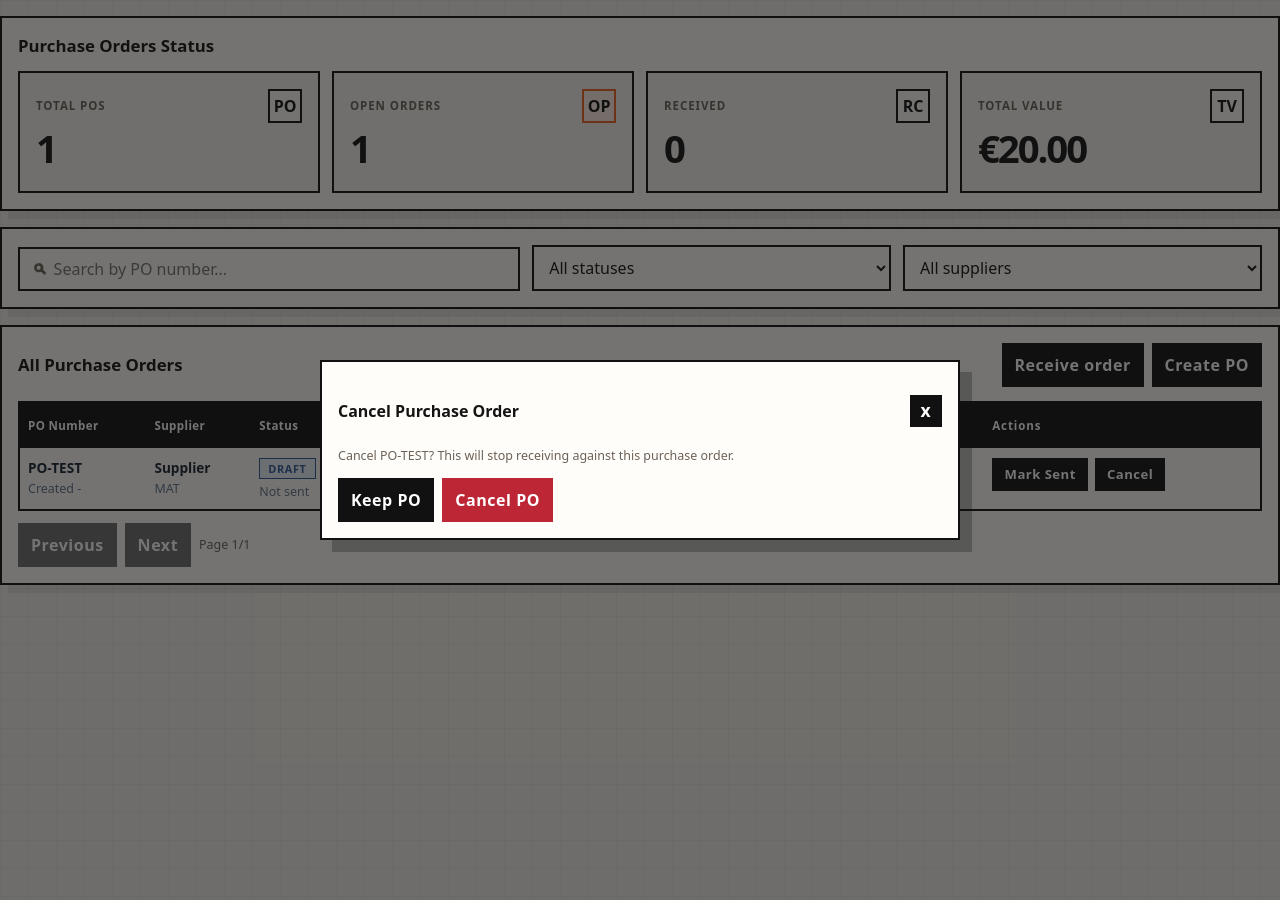
Test: purchase order status feedback › shows cancellation failure inside its confirmation dialog
Click the button "Cancel PO": x=498, y=500 [442,478,553,522]
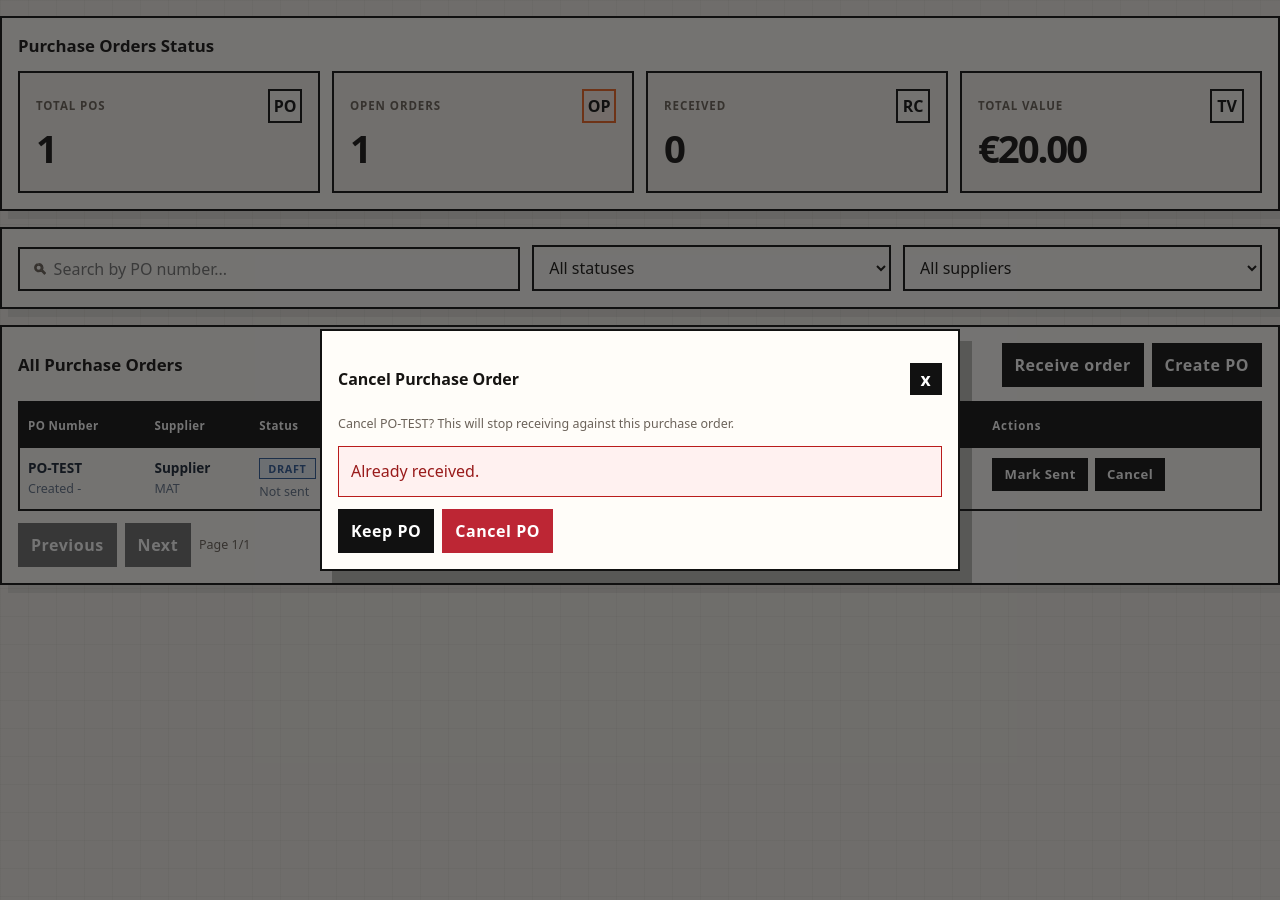
Result: the message reads "Already received." at [351,460,479,482]
